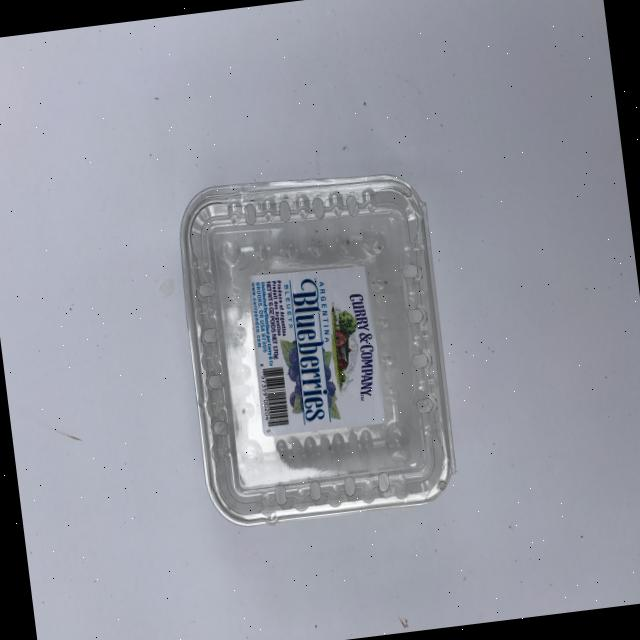plastic: (169, 160, 462, 530)
